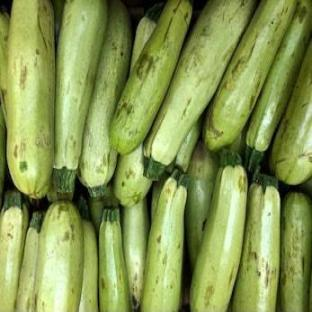Zucchini: (190, 152, 247, 311), (233, 174, 280, 311), (141, 176, 187, 311), (271, 40, 311, 184), (35, 201, 83, 311), (186, 142, 218, 271), (280, 192, 311, 311), (98, 208, 131, 312), (0, 191, 28, 311), (122, 198, 150, 310), (15, 212, 44, 311), (113, 144, 151, 206), (79, 198, 98, 311), (131, 4, 163, 68), (175, 117, 202, 172), (89, 184, 117, 233), (0, 10, 9, 117), (151, 172, 169, 221), (225, 126, 247, 160), (299, 178, 311, 197)
